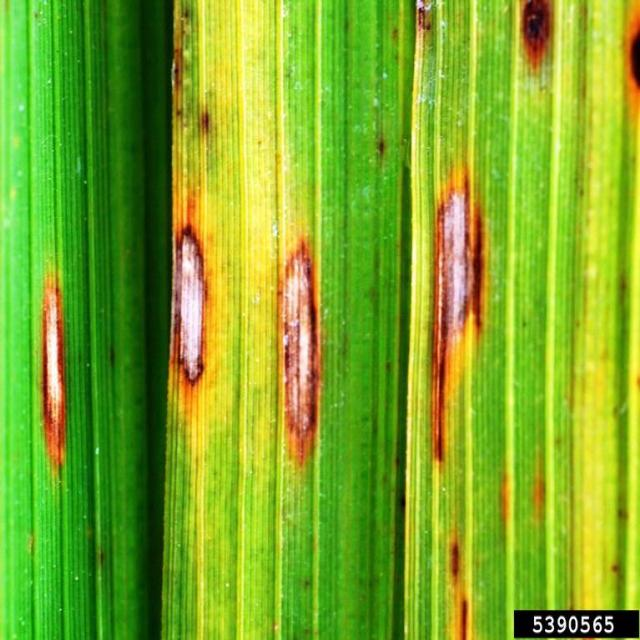Leaf blast: (435, 186, 505, 475), (275, 228, 351, 447), (40, 257, 85, 464), (171, 227, 226, 386), (514, 0, 570, 75), (610, 0, 640, 129)
